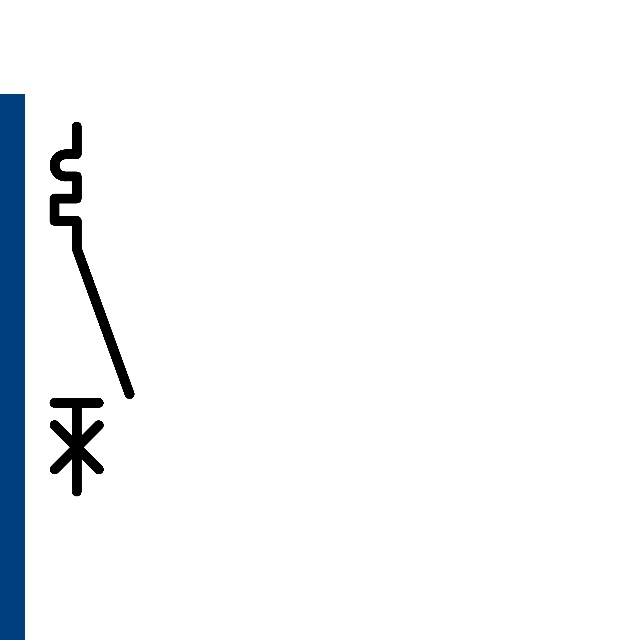interruptor_termomagnetico: (45, 117, 139, 501)
